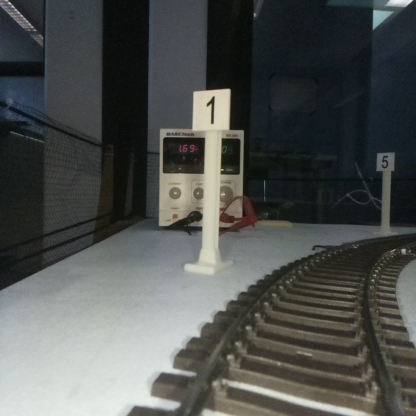white-info-1: (193, 90, 230, 269)
white-info-5: (376, 151, 394, 230)
